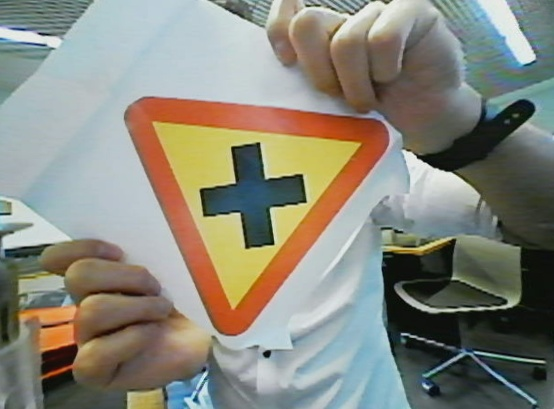junction: (122, 90, 382, 346)
